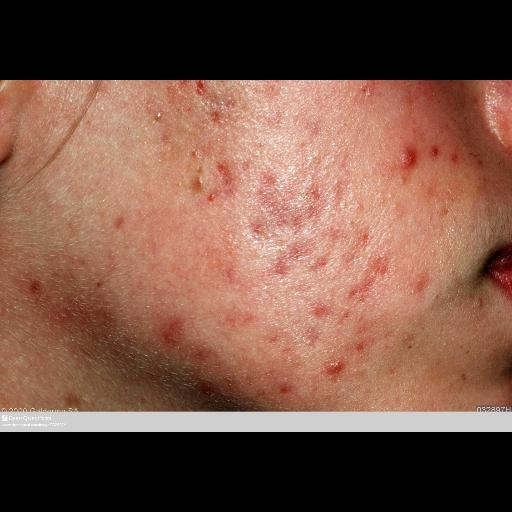Skin_Lesion: (18, 273, 122, 349), (250, 175, 316, 227), (196, 156, 238, 204), (358, 263, 390, 299), (280, 246, 336, 266), (20, 80, 54, 110), (150, 112, 174, 150), (492, 254, 510, 304), (496, 344, 512, 392), (162, 318, 186, 346), (409, 266, 429, 298), (24, 272, 44, 300), (184, 80, 210, 100), (322, 356, 344, 378), (300, 324, 320, 348), (256, 80, 286, 96), (208, 107, 226, 129), (358, 81, 372, 109), (400, 146, 416, 170), (312, 301, 332, 319), (456, 372, 472, 388), (358, 228, 372, 246), (280, 381, 292, 395), (432, 144, 442, 158)
